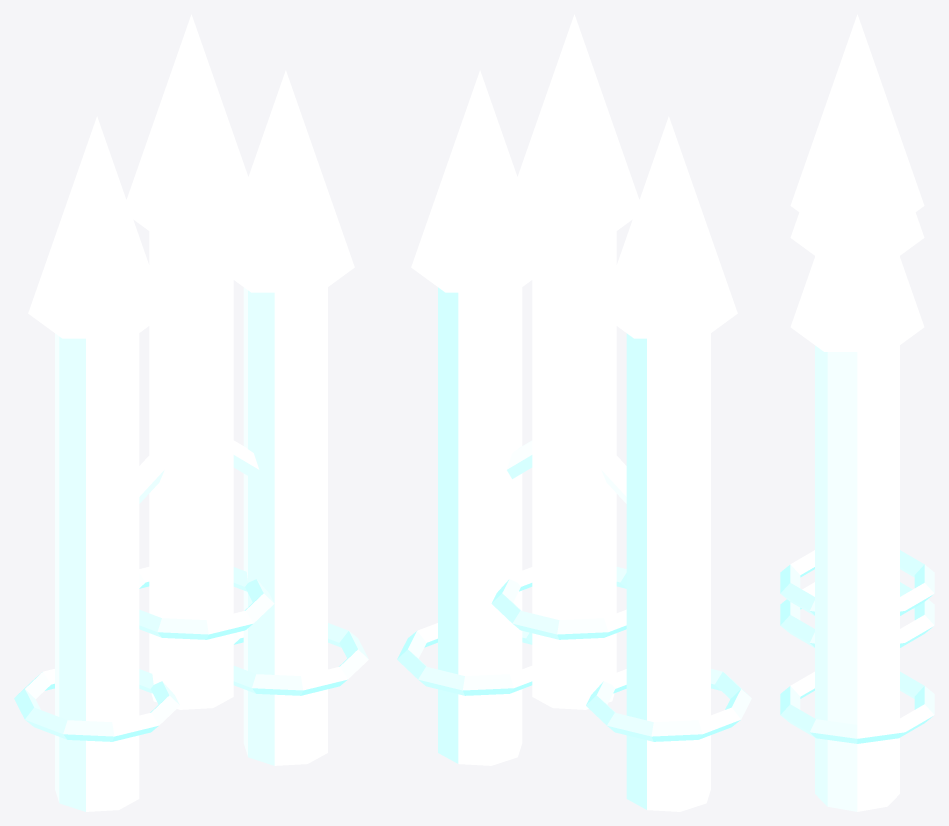
File: pulse_carbine_burst.glb
3 views of the same model, side by side, from view 1: azimuth 30°, elevation 25°; view 2: azimuth 150°, elevation 25°; view 3: azimuth 270°, elevation 25° (orthographic). The views are drawn at different scales.
Parts seen in each view (by area): view 1: BurstPulse_0, BurstPulse_2, BurstPulse_1, BurstTip_0, BurstTip_1, BurstTip_2, BurstRing_0, BurstRing_2, BurstRing_1, BurstLinkLeft, BurstLinkRight; view 2: BurstPulse_0, BurstPulse_2, BurstPulse_1, BurstTip_0, BurstTip_1, BurstTip_2, BurstRing_0, BurstRing_2, BurstRing_1, BurstLinkLeft, BurstLinkRight; view 3: BurstPulse_2, BurstTip_2, BurstTip_1, BurstRing_2, BurstRing_1, BurstRing_0, BurstTip_0, BurstPulse_1.
Boxes of the visible parts, box(x1,y1,x2,y2) form: BurstPulse_0: box(55, 333, 139, 811); BurstPulse_2: box(243, 287, 327, 765); BurstPulse_1: box(149, 231, 233, 709); BurstTip_0: box(28, 116, 165, 338); BurstTip_1: box(126, 14, 260, 236); BurstTip_2: box(233, 70, 354, 292); BurstRing_0: box(14, 669, 179, 741); BurstRing_2: box(233, 623, 368, 695); BurstRing_1: box(139, 567, 274, 639); BurstLinkLeft: box(139, 452, 164, 503); BurstLinkRight: box(233, 440, 259, 478); BurstPulse_0: box(626, 333, 710, 811); BurstPulse_2: box(438, 287, 522, 765); BurstPulse_1: box(532, 231, 616, 709); BurstTip_0: box(600, 116, 737, 338); BurstTip_1: box(505, 14, 639, 236); BurstTip_2: box(411, 70, 532, 292); BurstRing_0: box(586, 669, 751, 741); BurstRing_2: box(397, 623, 532, 695); BurstRing_1: box(491, 567, 626, 639); BurstLinkLeft: box(601, 452, 626, 503); BurstLinkRight: box(506, 440, 532, 478); BurstPulse_2: box(815, 345, 899, 811); BurstTip_2: box(790, 135, 924, 351); BurstTip_1: box(790, 14, 924, 229); BurstRing_2: box(780, 671, 934, 743); BurstRing_1: box(780, 550, 934, 615); BurstRing_0: box(780, 582, 934, 647); BurstTip_0: box(790, 212, 924, 255); BurstPulse_1: box(815, 224, 899, 256).
Size of the model in its own units: 0.53 by 1.15 by 0.2187.
